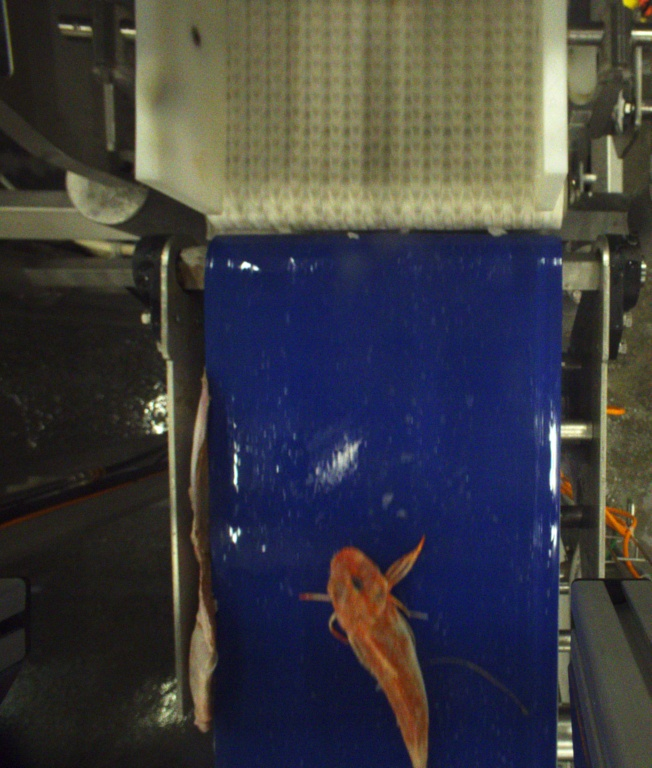GUU: (302, 528, 432, 768)
